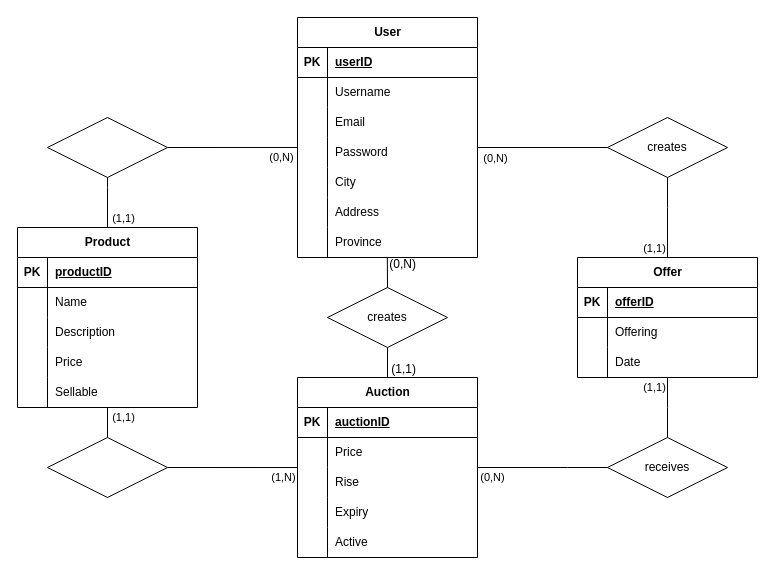
Some shapes in this 775 by 575 pixel diagram are drawn without their labels. Each missing label, with the centre of its shape:
"contains" belongs at point (107, 467).
"owns" belongs at point (107, 147).
